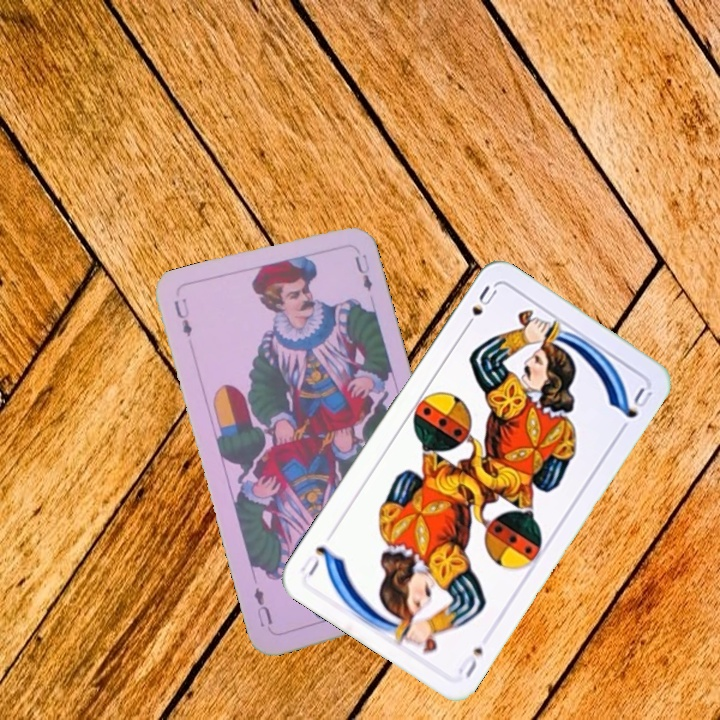EU: (170, 294, 195, 340)
SU: (460, 281, 500, 334), (454, 643, 486, 680)
